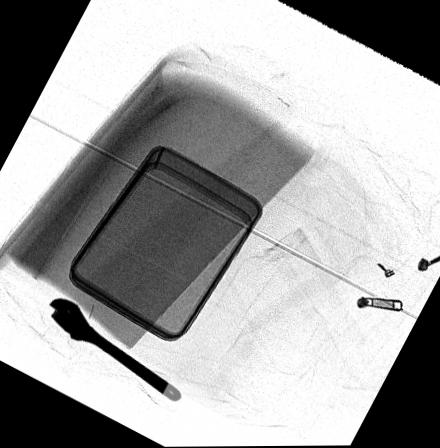Wrench: (48, 296, 182, 403)
